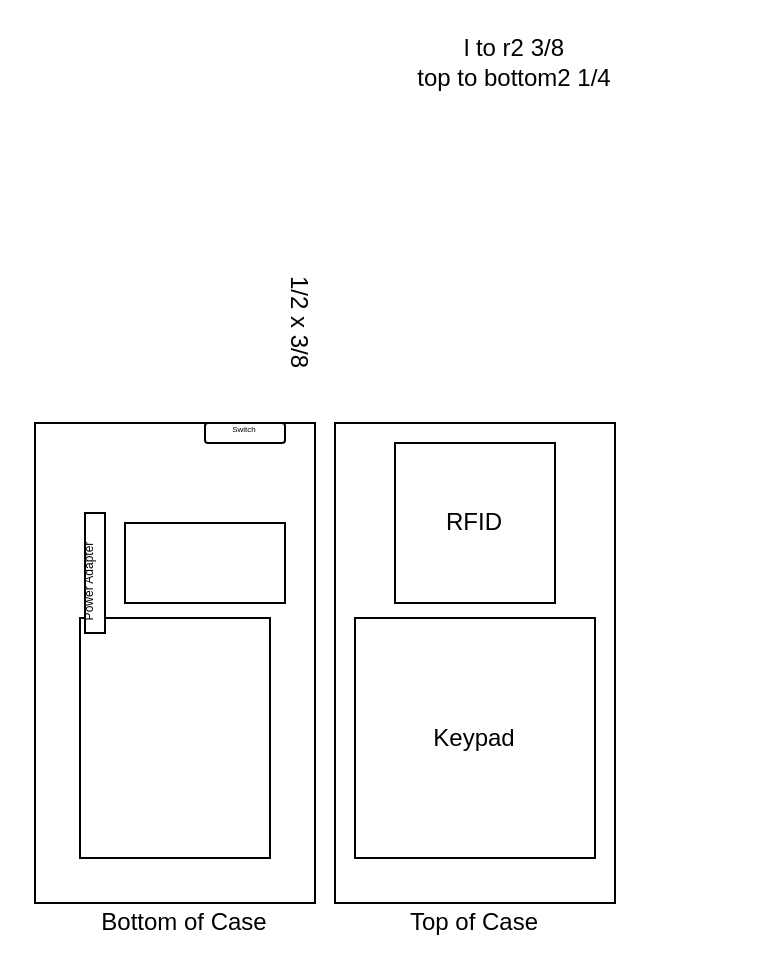
Image size: 770x978. Some labels were removed from this diagram. Each missing label, with the centre of its shape:
9v Bat: the point at 204,562
UNO R3: the point at 174,737
